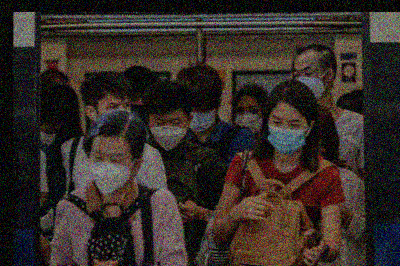with_mask: (86, 144, 131, 199), (267, 112, 307, 155), (150, 114, 188, 154), (291, 62, 326, 99), (233, 102, 265, 134), (188, 107, 216, 132), (40, 124, 58, 150)
